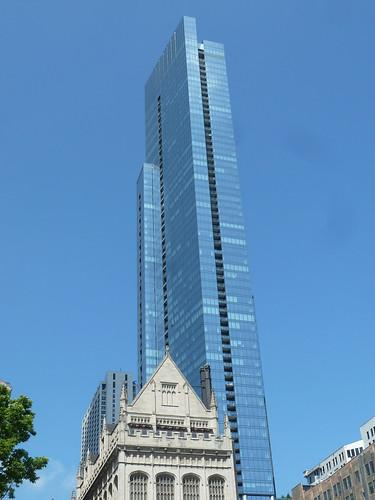building: (128, 15, 280, 500)
